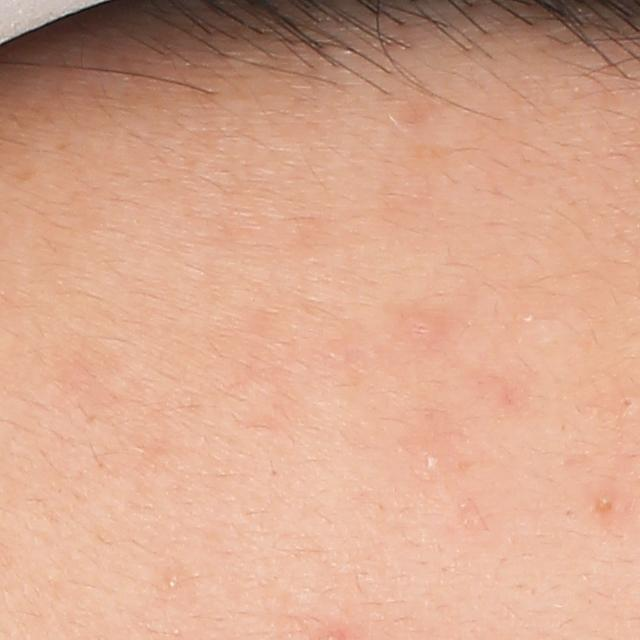comedo: (159, 571, 182, 593), (618, 394, 640, 415), (593, 495, 613, 516)
